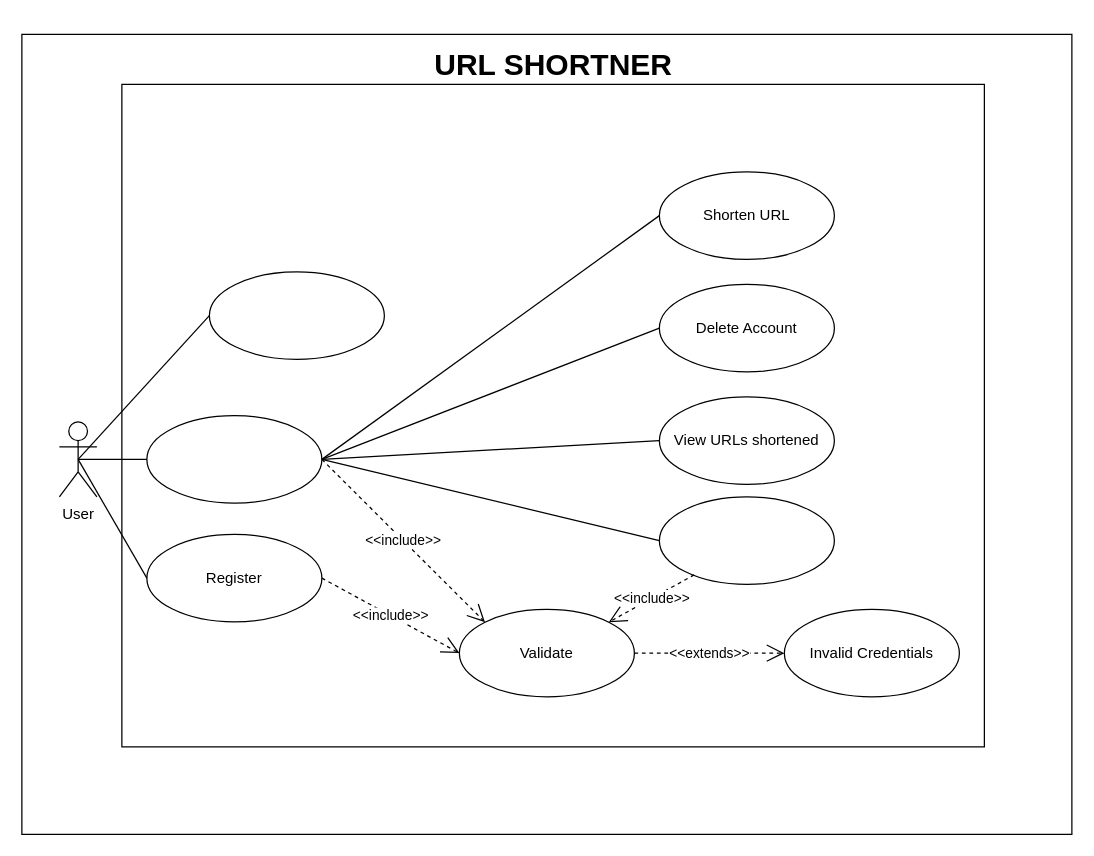
Image size: 1094x856. Some labels were removed from this diagram. Here are the shapes that lost their labels. From the top down, the centre of each, then its label:
(296,315): Shorten URL without logging in
(234,458): Login
(746,540): Edit Account Details
